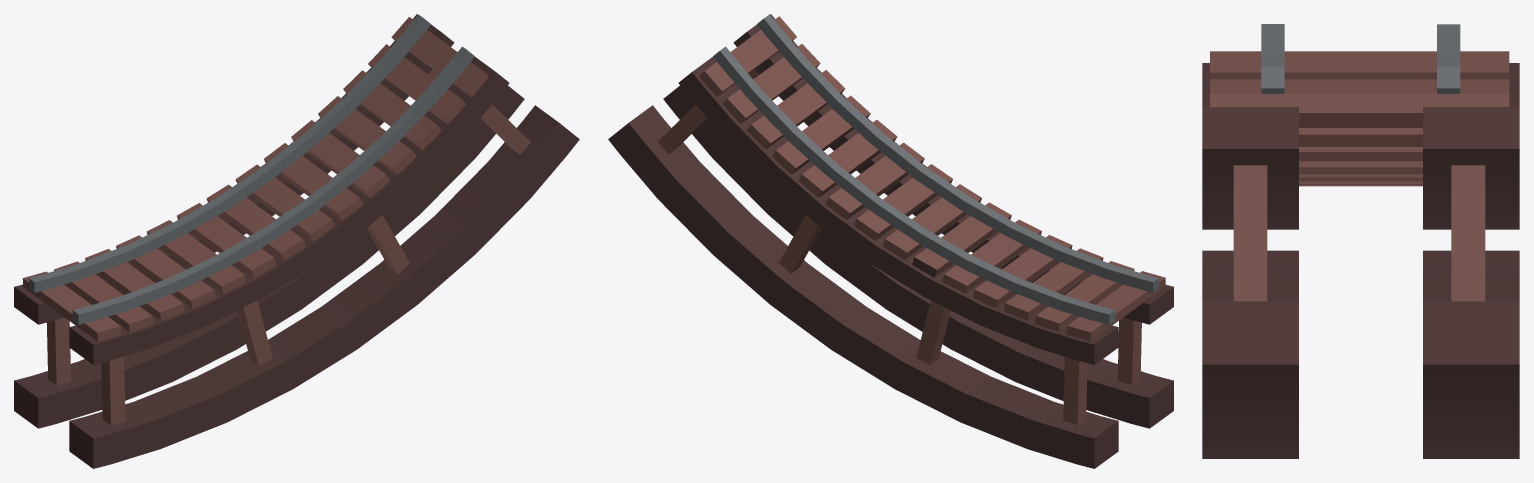
Rendered from DarkRoseWoodMechMedium0_96GaugeRise1.fbx.
3 views of the same model, side by side, from view 1: azimuth 30°, elevation 25°; view 2: azimuth 150°, elevation 25°; view 3: azimuth 270°, elevation 25° (orthographic). The views are drawn at different scales.
Visible parts, largest first — view 1: DarkRoseWoodMechMedium0_96GaugeRise1; view 2: DarkRoseWoodMechMedium0_96GaugeRise1; view 3: DarkRoseWoodMechMedium0_96GaugeRise1.
Part boxes in pixels (box(x1,y1,x2,y2)): DarkRoseWoodMechMedium0_96GaugeRise1: box(14, 14, 579, 468); DarkRoseWoodMechMedium0_96GaugeRise1: box(608, 14, 1173, 468); DarkRoseWoodMechMedium0_96GaugeRise1: box(1202, 24, 1519, 458).
Size of the model in its own units: 783 by 481 by 221.
